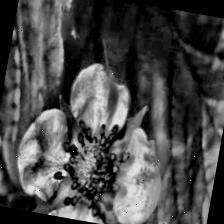Blossom Blight: (43, 112, 137, 223)
